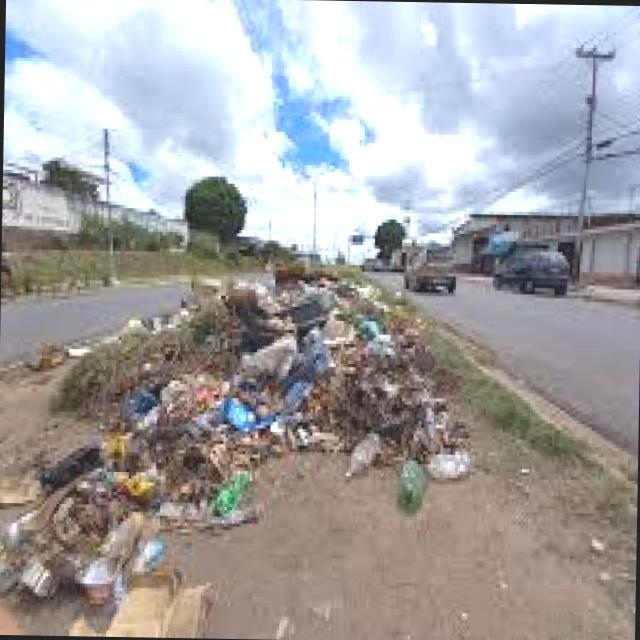garbage: (6, 274, 476, 605)
